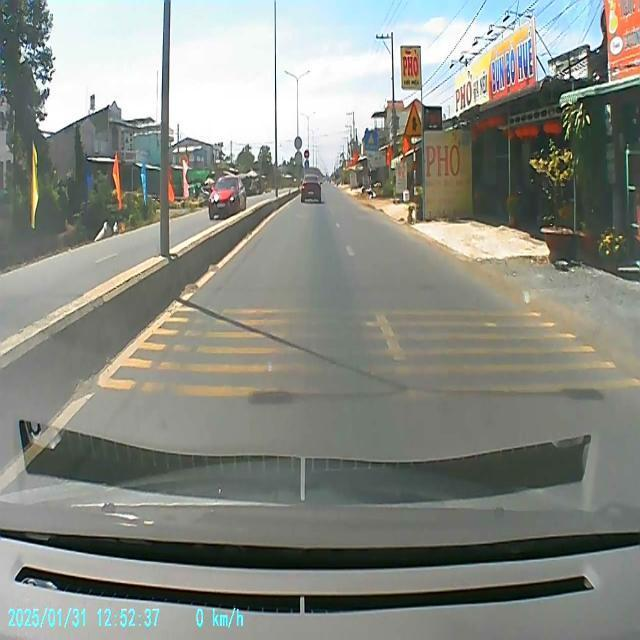102-cam-di-nguoc-chieu: (302, 149, 310, 158)
207-giao-nhau-voi-duong-khong-uu-tien: (403, 100, 423, 138)
302a-huong-phai-di-vong-chuong-ngai-vat-1: (304, 160, 310, 170)
